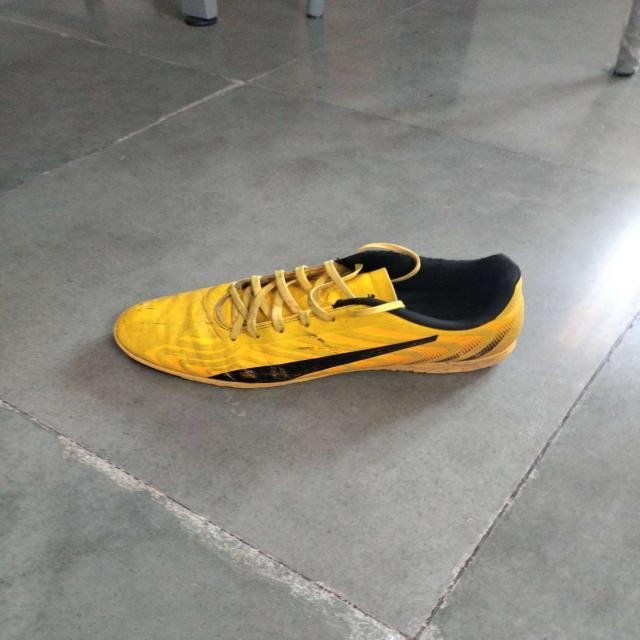shoe: (108, 245, 530, 392)
